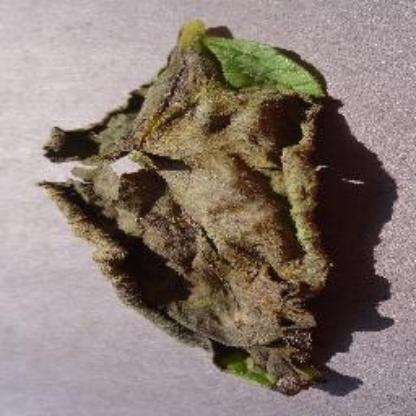Late-Blight: (21, 14, 397, 408)
